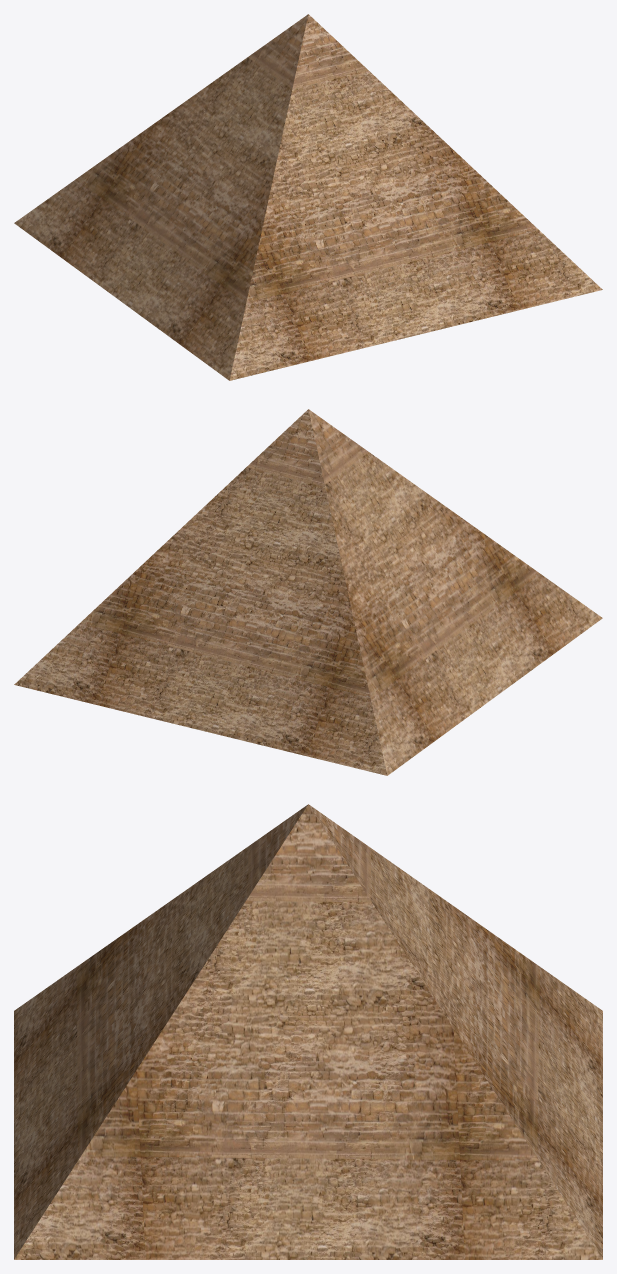
3 views of the same model, one above another, from view 1: azimuth 30°, elevation 25°; view 2: azimuth 150°, elevation 25°; view 3: azimuth 270°, elevation 25° (orthographic). The views are drawn at different scales.
Parts seen in each view (by area): view 1: pCube1_lambert2_0; view 2: pCube1_lambert2_0; view 3: pCube1_lambert2_0.
Boxes of the visible parts, x1=… form: pCube1_lambert2_0: x1=14, y1=14, x2=602, y2=380; pCube1_lambert2_0: x1=14, y1=409, x2=602, y2=775; pCube1_lambert2_0: x1=14, y1=804, x2=602, y2=1259.
Size of the model in its own units: 404383 by 250945 by 404383.
1 material, 1 textured.
